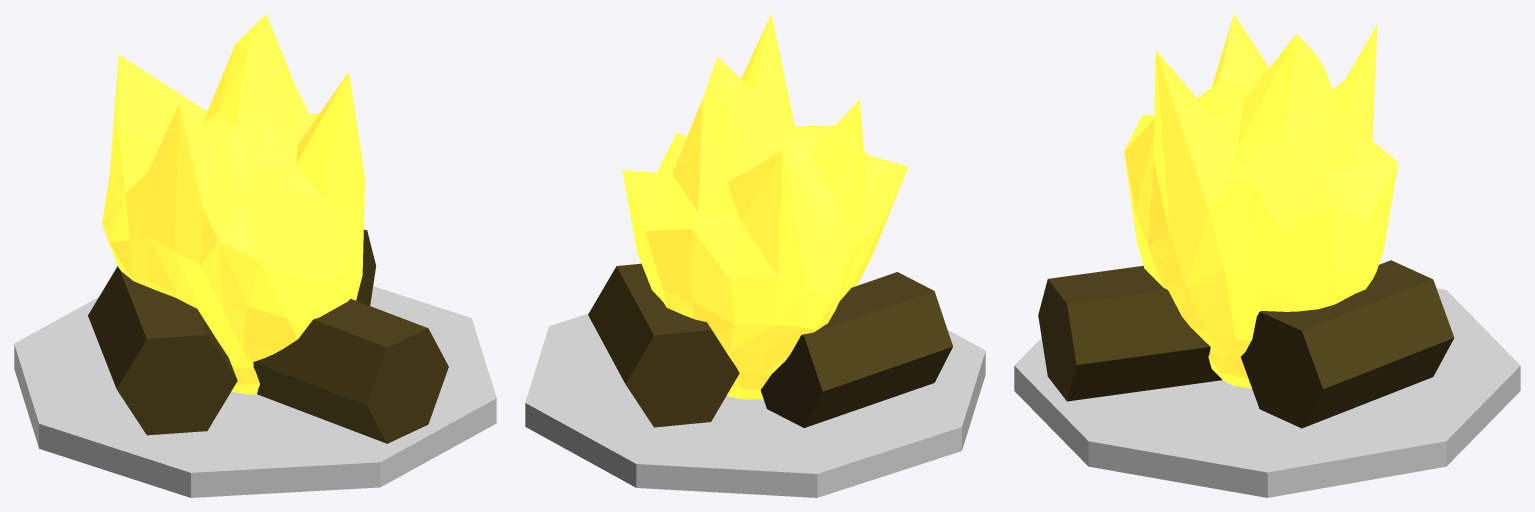
File: campfire.glb
The picture shows the model from 3 angles, left to right: view 1: azimuth 30°, elevation 25°; view 2: azimuth 150°, elevation 25°; view 3: azimuth 270°, elevation 25°; orthographic projection. The views are drawn at different scales.
Parts seen in each view (by area): view 1: Campfire; view 2: Campfire; view 3: Campfire.
Boxes of the visible parts, x1,y1,x2,y2 form: Campfire: (14, 14, 496, 497); Campfire: (525, 14, 985, 497); Campfire: (1014, 14, 1520, 497).
Size of the model in its own units: 0.3099 by 0.2499 by 0.3099.
